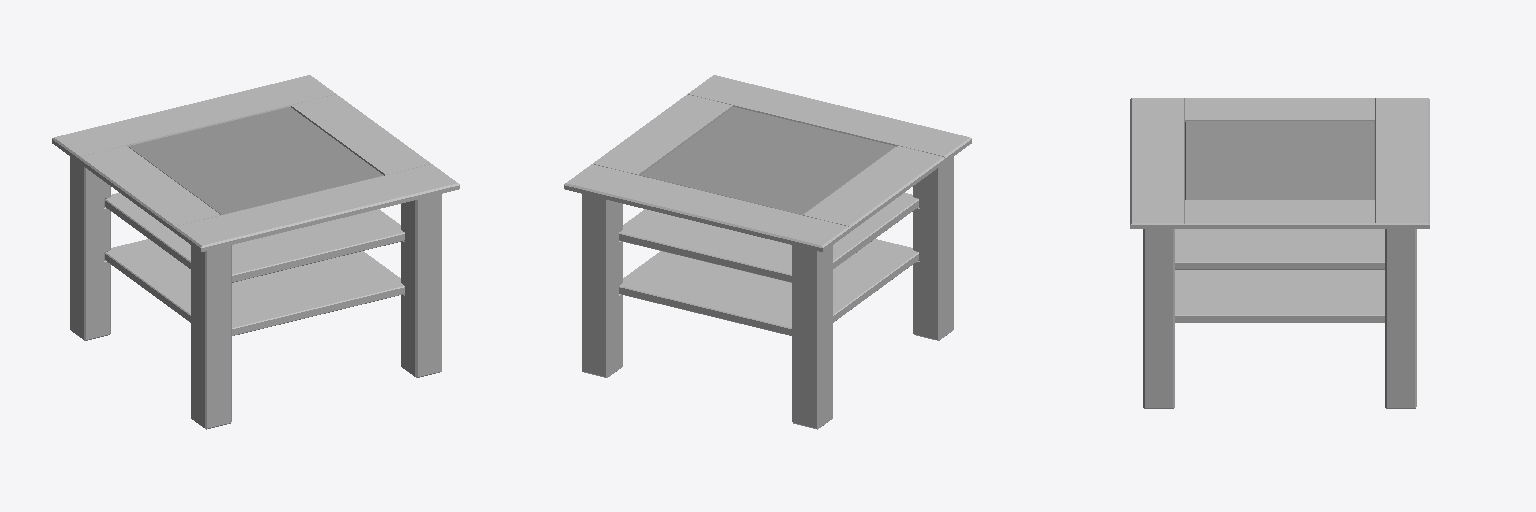
The model's file is Wood_Table.obj.
3 views of the same model, side by side, from view 1: azimuth 30°, elevation 25°; view 2: azimuth 150°, elevation 25°; view 3: azimuth 270°, elevation 25° (orthographic).
Parts seen in each view (by area): view 1: Wood_Table_Cube.003; view 2: Wood_Table_Cube.003; view 3: Wood_Table_Cube.003.
Boxes of the visible parts, box(x1,y1,x2,y2) form: Wood_Table_Cube.003: box(52, 75, 459, 429); Wood_Table_Cube.003: box(564, 75, 971, 429); Wood_Table_Cube.003: box(1130, 98, 1429, 408).
Size of the model in its own units: 0.6601 by 0.4664 by 0.6601.